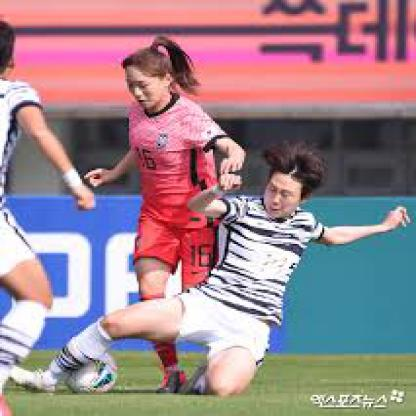Fall_Down: (6, 140, 410, 398)
